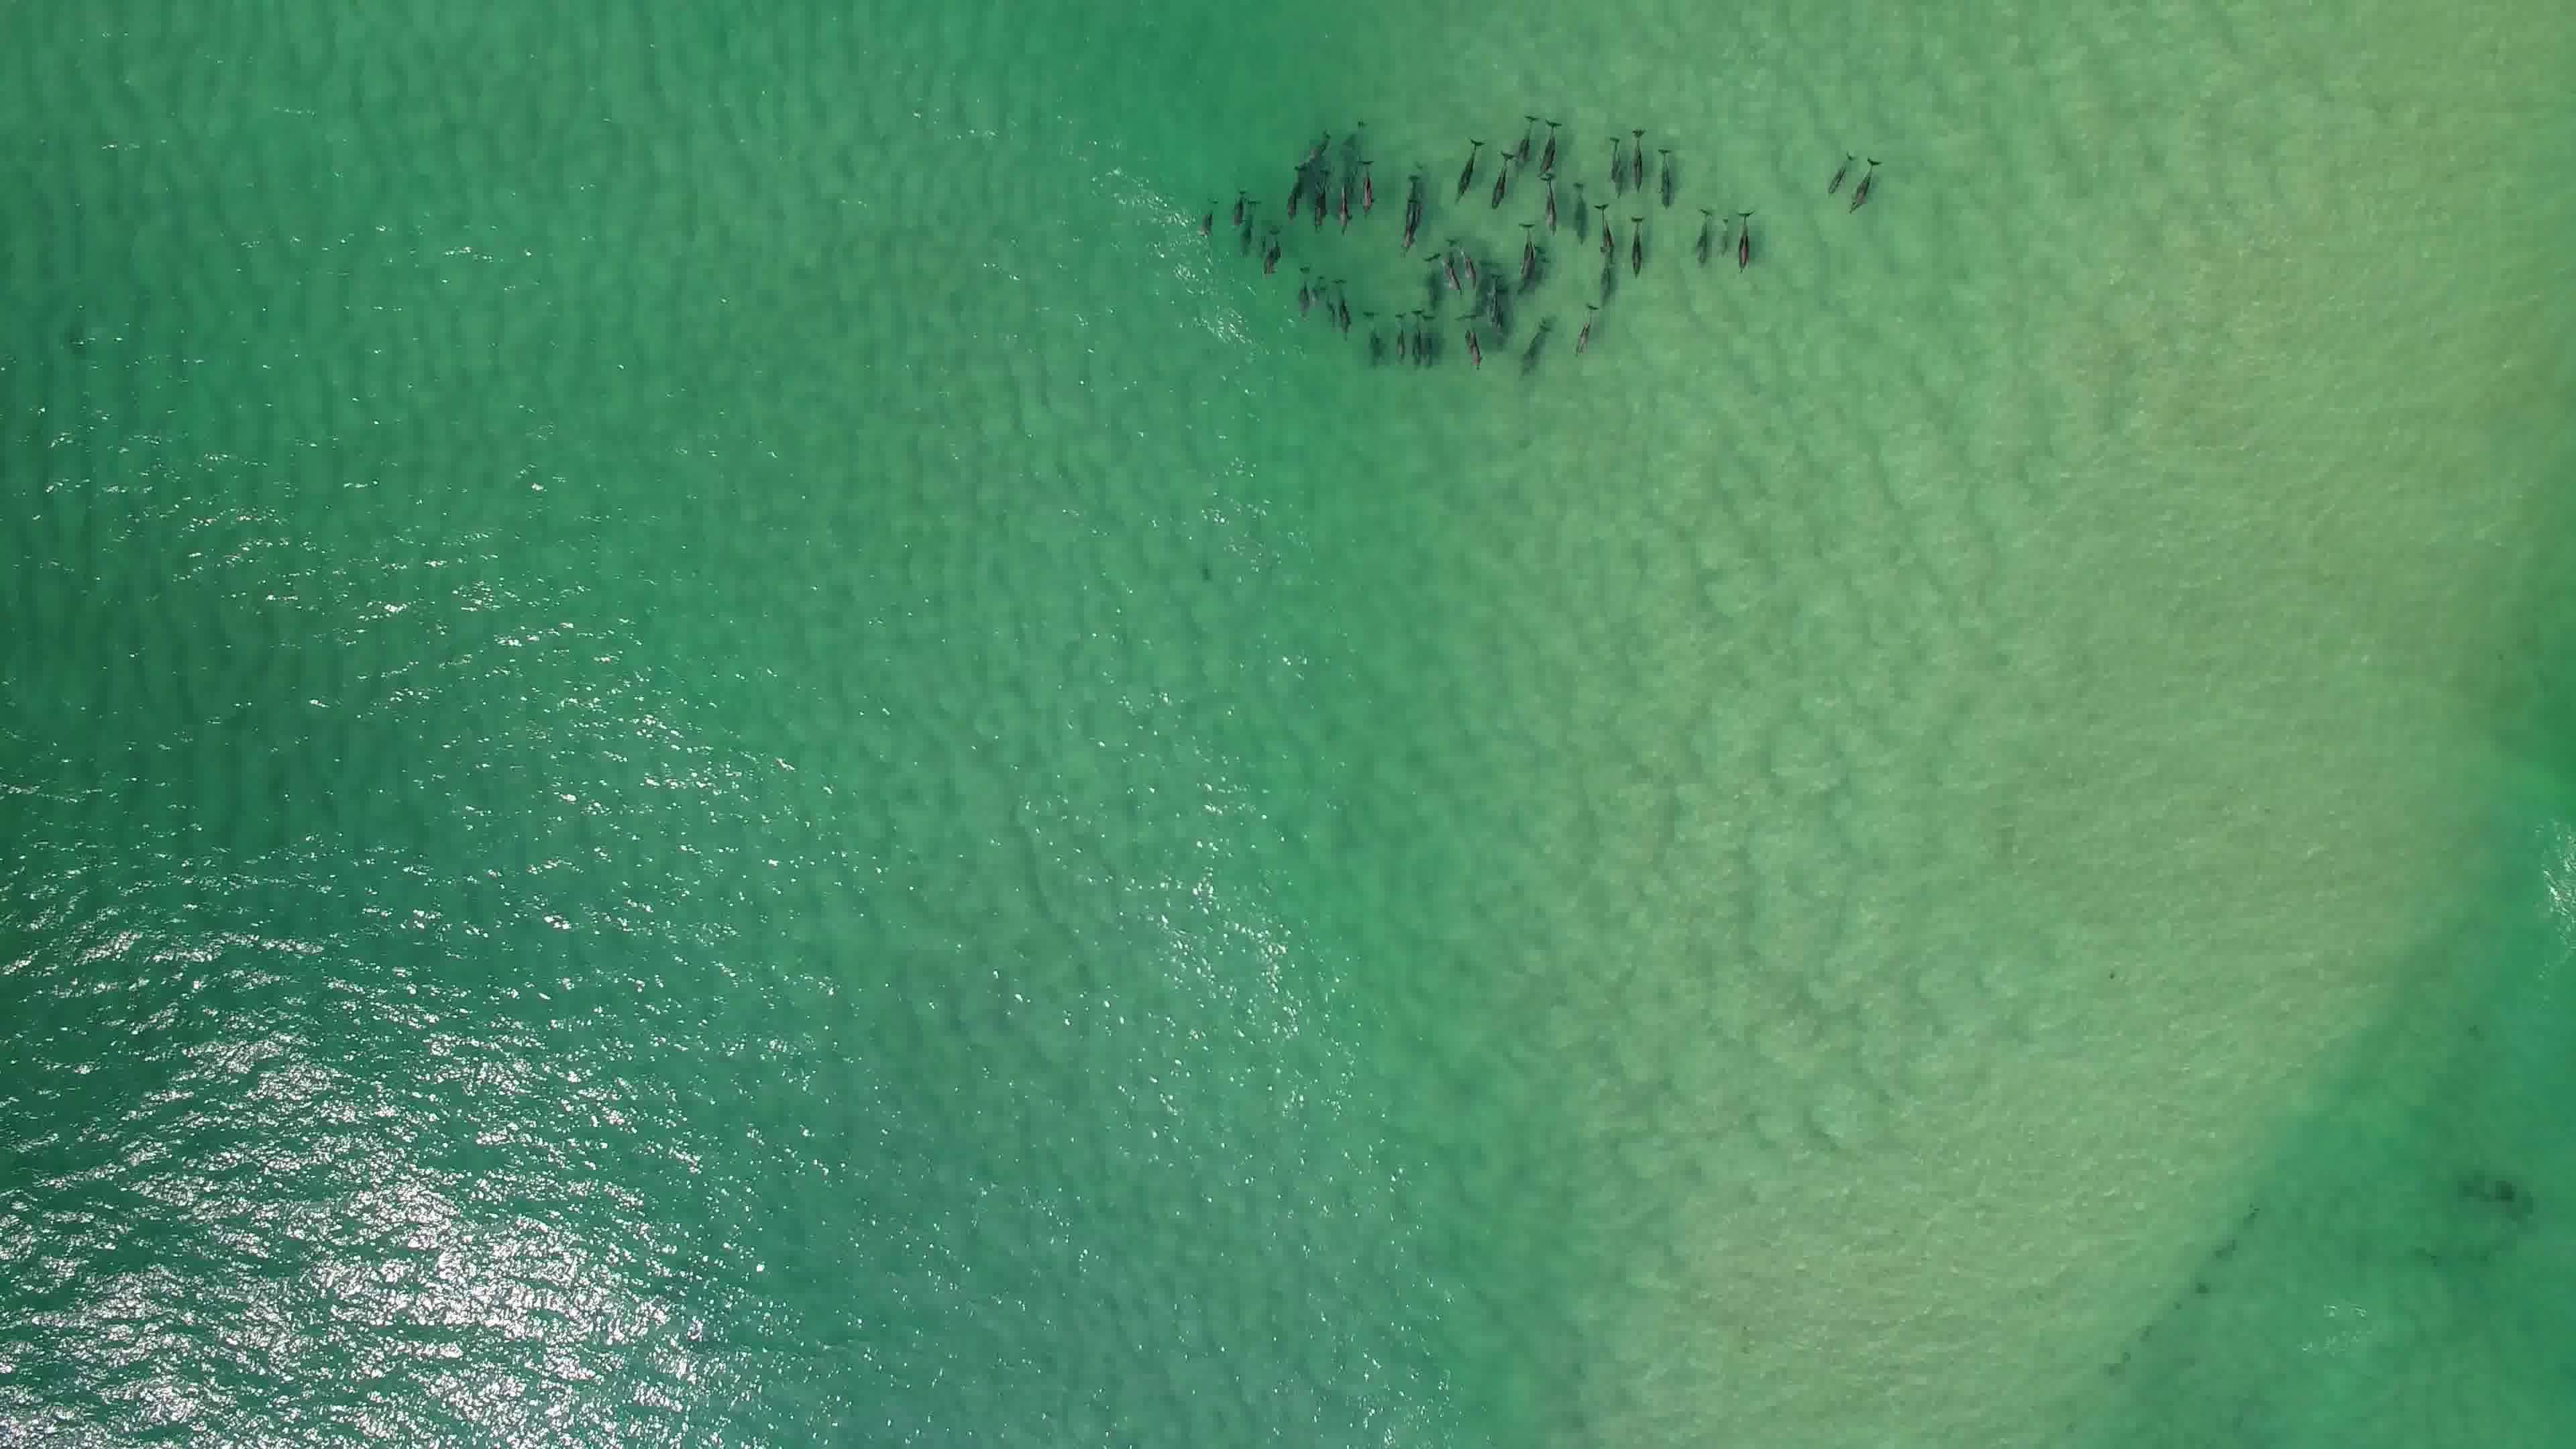dolphin: (1840, 150, 1888, 216), (1589, 191, 1628, 271), (1729, 200, 1766, 278), (1507, 211, 1541, 292), (1306, 161, 1338, 246), (1451, 126, 1483, 207), (1483, 142, 1523, 203), (1396, 170, 1426, 253), (1516, 310, 1553, 377), (1622, 124, 1658, 191), (1815, 140, 1856, 198), (1622, 202, 1652, 280), (1511, 104, 1546, 168), (1447, 317, 1493, 364), (1651, 142, 1683, 209), (1532, 113, 1566, 177), (1690, 203, 1721, 267), (1352, 152, 1382, 216), (1568, 297, 1599, 356), (1276, 152, 1304, 218), (1332, 280, 1357, 350), (1233, 195, 1261, 255), (1421, 308, 1447, 370), (1256, 219, 1284, 276), (1451, 235, 1483, 285), (1283, 267, 1313, 317), (1299, 129, 1332, 172), (1191, 196, 1221, 242), (1435, 239, 1458, 297), (1359, 315, 1385, 363), (1334, 173, 1357, 226), (1219, 184, 1249, 221), (1315, 280, 1339, 322), (1392, 313, 1408, 364), (1407, 311, 1422, 361)
